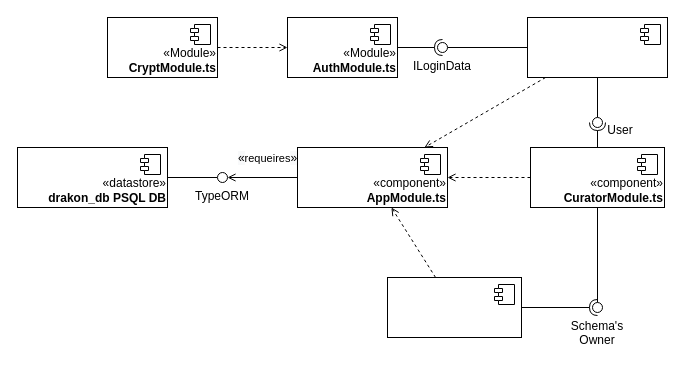
Some shapes in this 685 by 366 pixel diagram are drawn without their labels. Here are the shapes that lost their labels. From the top down, the box of each, then its label:
(526, 16, 668, 78): «component» UserModule.ts
(386, 276, 522, 338): «component» SchemaModule.ts
